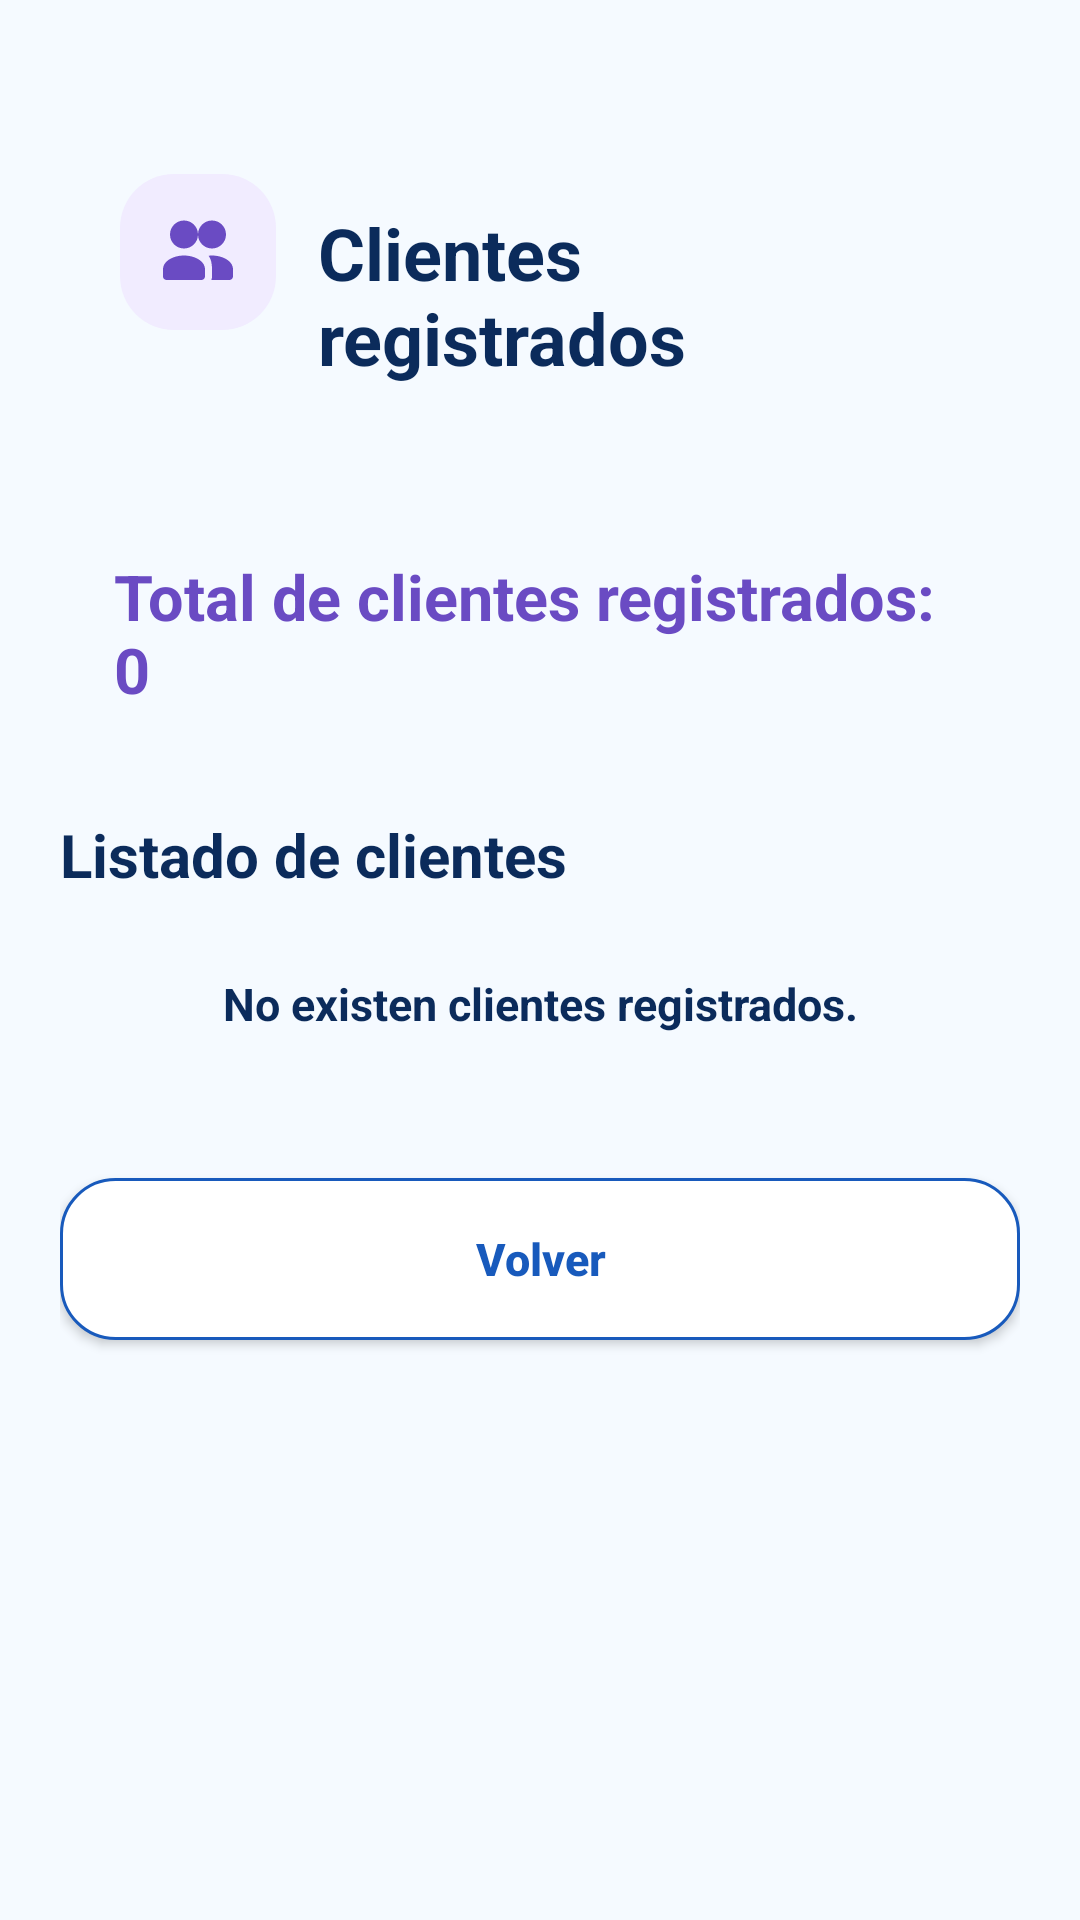

Locate icon controls on the screen. Image size 1080*1920, boxes as BBox(x1, y1, x2, y2).
clients moderno: BBox(163, 220, 233, 280)
